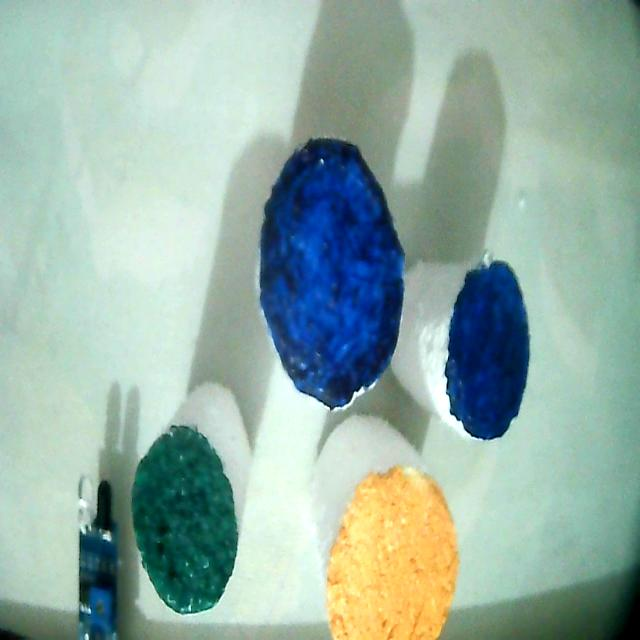blue: (260, 139, 403, 408), (445, 262, 529, 439)
green: (132, 424, 238, 614)
yellow: (326, 466, 458, 639)
